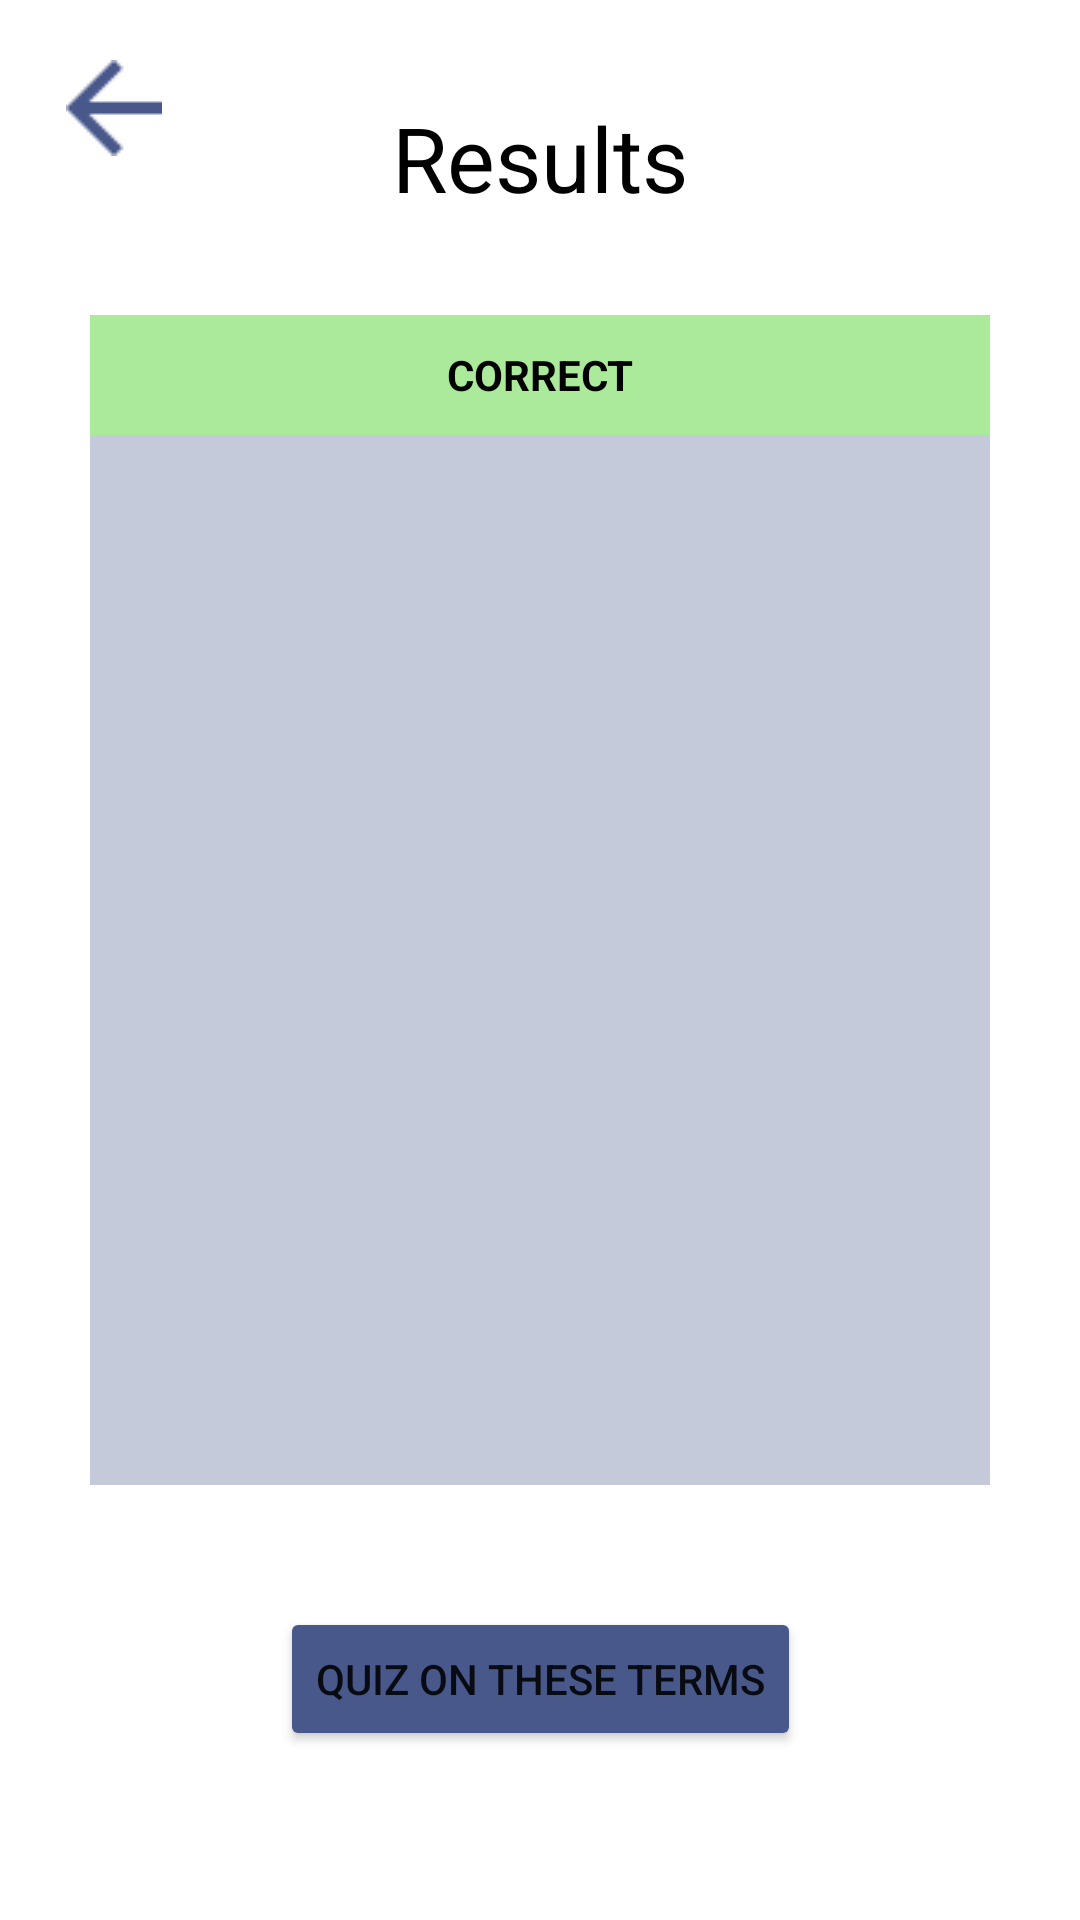

Screen size 1080px x 1920px. Icon name, then its center in pixels as (x=x, y=y):
Back Arrow: (x=114, y=108)
